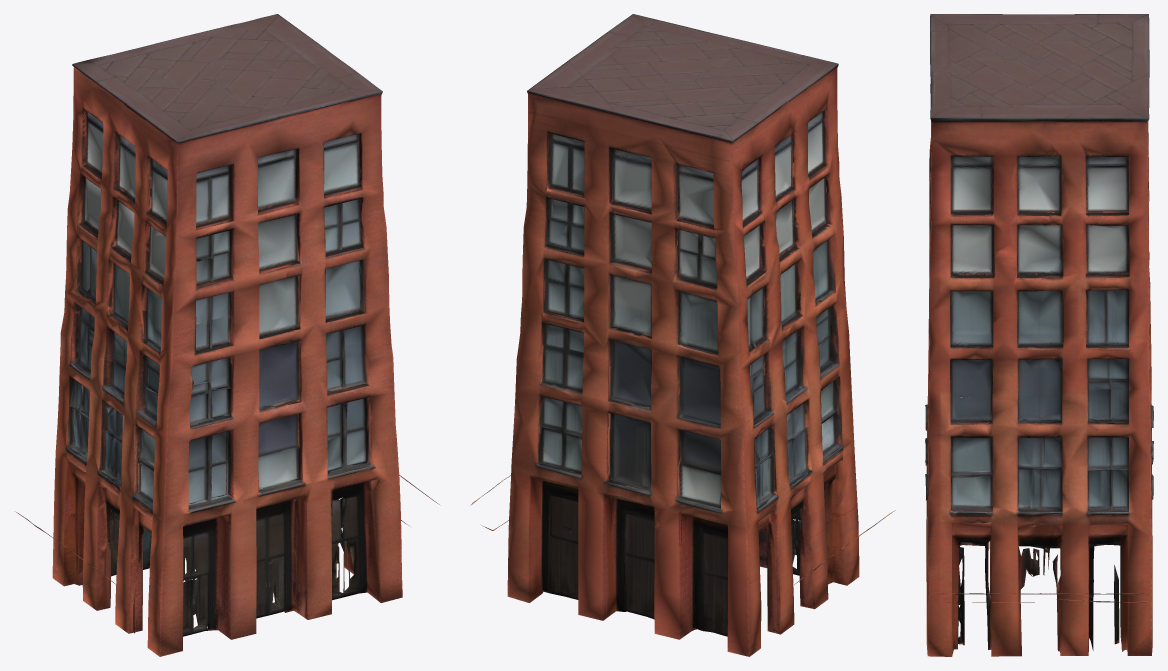
File: apartment1.glb
The picture shows the model from 3 angles, left to right: view 1: azimuth 30°, elevation 25°; view 2: azimuth 150°, elevation 25°; view 3: azimuth 270°, elevation 25°; orthographic projection. The views are drawn at different scales.
Visible parts, largest first — view 1: Mesh_0.001; view 2: Mesh_0.001; view 3: Mesh_0.001.
Boxes of the visible parts, left/top/right/bottom form: Mesh_0.001: left=16, top=14, right=439, bottom=656; Mesh_0.001: left=470, top=14, right=895, bottom=656; Mesh_0.001: left=925, top=14, right=1153, bottom=656.
Bounding box in the file's own units: 9.63 × 14.54 × 5.68.
1 material, 1 textured.
